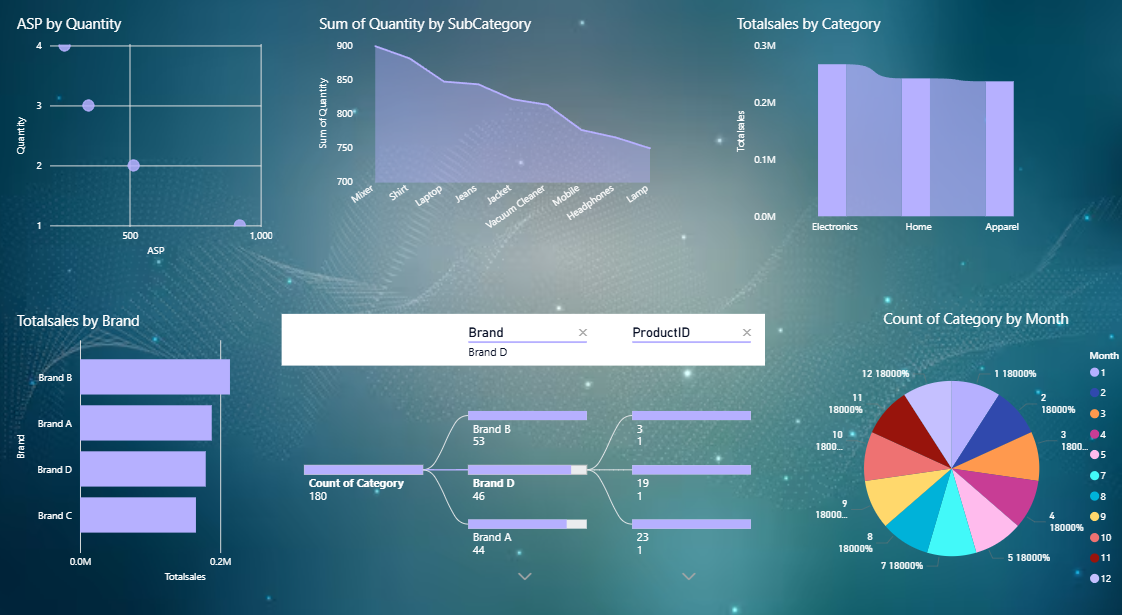

The page's visual inventory and layout, read from the dashboard file:
{"tool":"powerbi","page":{"name":"Product & category","canvas":[1280,720],"ordinal":2},"visuals":[{"type":"scatterChart","fields":{"X":["Measure.ASP"],"Y":["Sales_Fact.Quantity"]},"box":[39.8,34.3,290.9,271.7],"z":0},{"type":"barChart","fields":{"Y":["Measure.Totalsales"],"Category":["Product_Dim.Brand"]},"box":[39.8,359.5,322.5,304.6],"z":1000},{"type":"areaChart","fields":{"Category":["Product_Dim.SubCategory"],"Y":["Sum(Sales_Fact.Quantity)"]},"box":[371.9,34.3,388.3,251.1],"z":2000},{"type":"ribbonChart","fields":{"Category":["Product_Dim.Category"],"Y":["Measure.Totalsales"]},"box":[830.2,34.3,356.8,251.1],"z":3000},{"type":"decompositionTreeVisual","fields":{"ExplainBy":["Product_Dim.Brand","Product_Dim.ProductID"],"Analyze":["CountNonNull(Product_Dim.Category)"]},"box":[330.7,359.5,540.7,304.6],"z":4000},{"type":"pieChart","fields":{"Category":["Calendar_Dim.Month"],"Y":["CountNonNull(Product_Dim.Category)"]},"box":[915.3,358.1,365,330.7],"z":5000}]}

Visuals, with their boxes in screenshot pixels (x1, y1, x2, y2), scaled from the page's 1280x720 canvas onto the 1122x615 screenshot:
scatterChart - Measure.ASP x Sales_Fact.Quantity: (x1=35, y1=29, x2=290, y2=261)
barChart - Measure.Totalsales x Product_Dim.Brand: (x1=35, y1=307, x2=318, y2=567)
areaChart - Product_Dim.SubCategory x Sum(Sales_Fact.Quantity): (x1=326, y1=29, x2=666, y2=244)
ribbonChart - Product_Dim.Category x Measure.Totalsales: (x1=728, y1=29, x2=1040, y2=244)
decompositionTreeVisual - Product_Dim.Brand x Product_Dim.ProductID: (x1=290, y1=307, x2=764, y2=567)
pieChart - Calendar_Dim.Month x CountNonNull(Product_Dim.Category): (x1=802, y1=306, x2=1121, y2=588)
